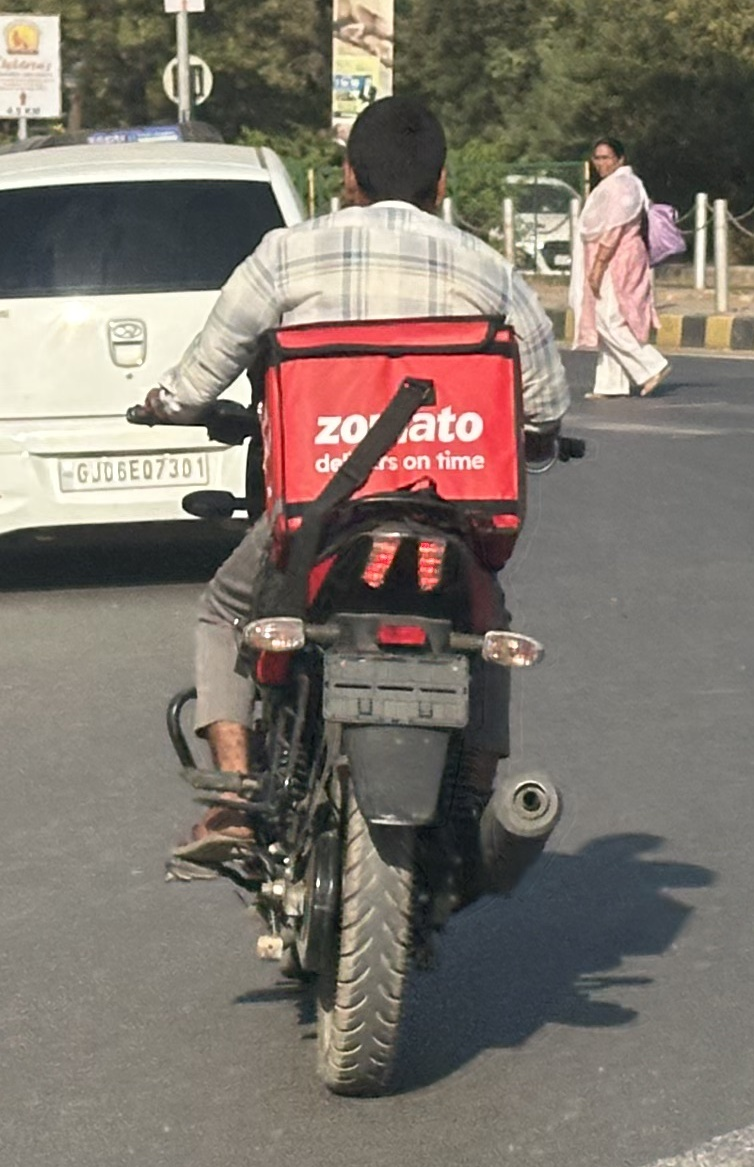BikeWithRider: (105, 63, 589, 1119)
NoHelmet: (318, 76, 475, 233)
